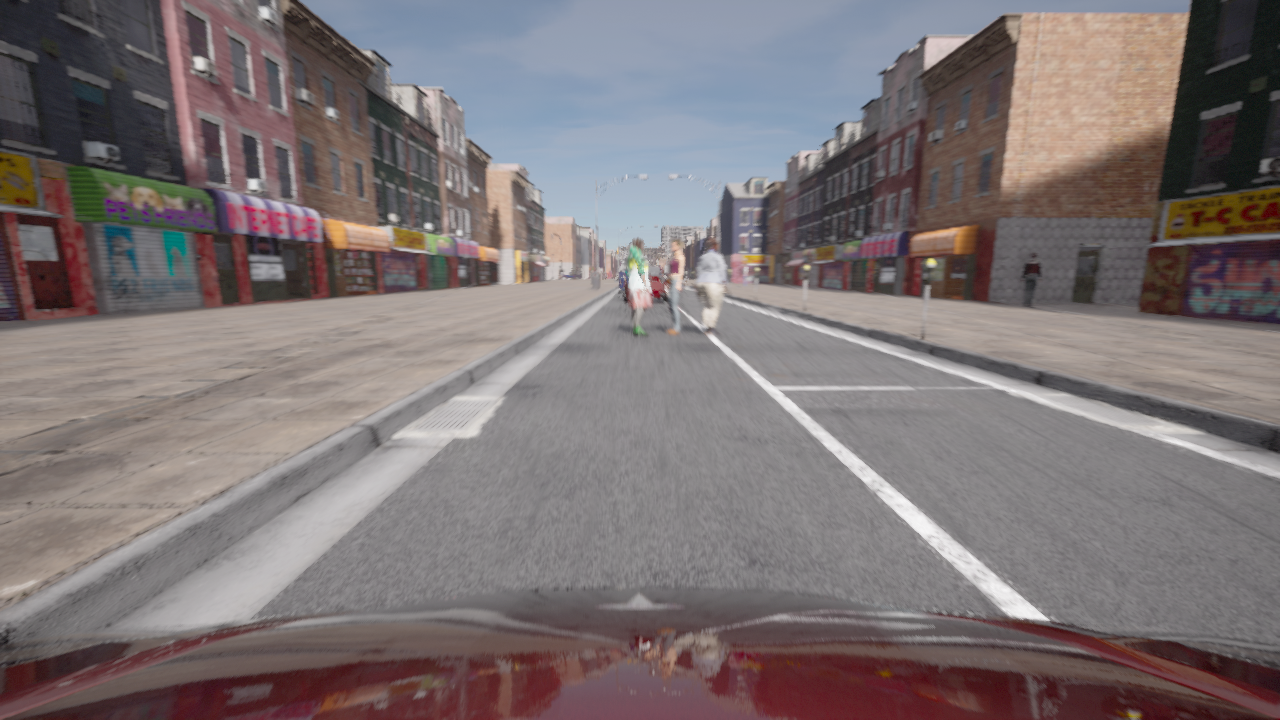cyclist: (0, 588, 1279, 719), (620, 267, 668, 302), (560, 270, 582, 279), (620, 262, 625, 288)
pedestrian: (696, 238, 727, 334), (624, 238, 651, 335), (666, 239, 683, 333), (1021, 252, 1042, 306), (743, 264, 746, 286)
